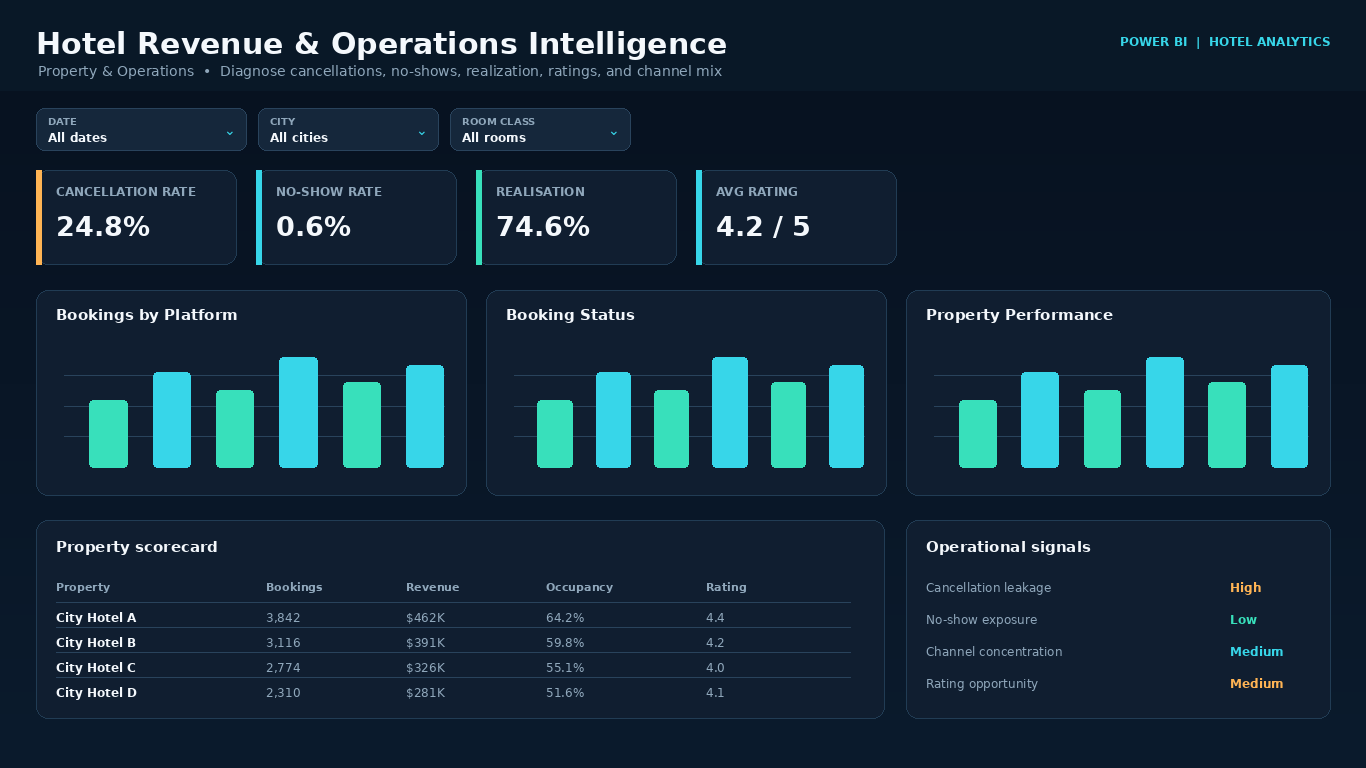

What the dashboard file says about the page in this screenshot:
{"tool":"powerbi","page":{"name":"Property & Operations","canvas":[1366,768],"ordinal":1},"visuals":[{"type":"clusteredBarChart","title":"BOOKINGS BY PLATFORM","fields":{"Category":["fact_bookings.booking_platform"],"Y":["Measures (2).Total Booking"]},"box":[32,220,642,220],"z":1000},{"type":"barChart","title":"BOOKING STATUS | VOLUME","fields":{"Category":["fact_bookings.booking_status"],"Y":["Measures (2).Total Booking"]},"box":[692,220,642,220],"z":1000},{"type":"tableEx","title":"PROPERTY PERFORMANCE DETAIL","fields":{"Values":["dim_hotels.property_name","dim_hotels.city","dim_rooms.room_class","Measures (2).Total Booking","Measures (2).Revenue","Measures (2).Occupancy %","Measures (2).ADR","Measures (2).Realisation %"]},"box":[32,458,1302,270],"z":1000},{"type":"cardVisual","fields":{"Data":["Measures (2).Realisation %"]},"box":[32,88,296,112],"z":2000},{"type":"cardVisual","fields":{"Data":["Measures (2).Cancelled %"]},"box":[346,88,296,112],"z":2000},{"type":"cardVisual","fields":{"Data":["Measures (2).Average Rating"]},"box":[660,88,296,112],"z":2000},{"type":"cardVisual","fields":{"Data":["Measures (2).No Show rate %"]},"box":[974,88,296,112],"z":2000},{"type":"slicer","fields":{"Values":["dim_hotels.city"]},"box":[884,18,136,56],"z":3000},{"type":"slicer","fields":{"Values":["dim_rooms.room_class"]},"box":[1032,18,136,56],"z":3000},{"type":"slicer","fields":{"Values":["dim_date.date"]},"box":[1180,18,154,56],"z":3000},{"type":"textbox","box":[32,18,700,36],"z":4000},{"type":"textbox","box":[34,52,760,20],"z":4000},{"type":"textbox","box":[32,742,1290,16],"z":4000}]}

Visuals, with their boxes in screenshot pixels (x1, y1, x2, y2), scaled from the page's 1366x768 canvas onto the 1366x768 screenshot:
"BOOKINGS BY PLATFORM" clusteredBarChart: crop(32, 220, 674, 440)
"BOOKING STATUS | VOLUME" barChart: crop(692, 220, 1334, 440)
"PROPERTY PERFORMANCE DETAIL" tableEx: crop(32, 458, 1334, 728)
cardVisual - Measures (2).Realisation %: crop(32, 88, 328, 200)
cardVisual - Measures (2).Cancelled %: crop(346, 88, 642, 200)
cardVisual - Measures (2).Average Rating: crop(660, 88, 956, 200)
cardVisual - Measures (2).No Show rate %: crop(974, 88, 1270, 200)
slicer - dim_hotels.city: crop(884, 18, 1020, 74)
slicer - dim_rooms.room_class: crop(1032, 18, 1168, 74)
slicer - dim_date.date: crop(1180, 18, 1334, 74)
textbox: crop(32, 18, 732, 54)
textbox: crop(34, 52, 794, 72)
textbox: crop(32, 742, 1322, 758)
